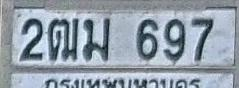2: (20, 17, 43, 60)
6: (137, 18, 158, 60)
7: (192, 17, 213, 61)
9: (164, 18, 185, 61)
A18: (48, 18, 79, 60)
A33: (83, 18, 110, 60)
